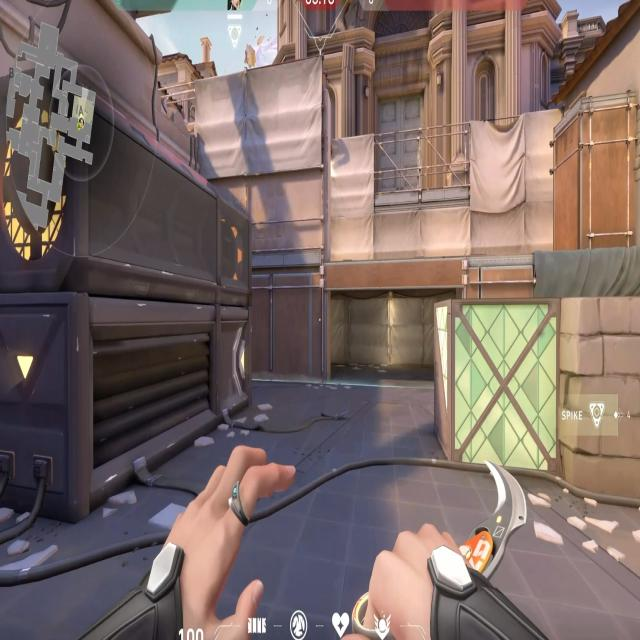A_Heaven_Box: (552, 127, 638, 242)
A_Heaven_Wall: (195, 70, 326, 261)
A_Hell: (305, 274, 482, 382)
A_Site_Box: (428, 301, 563, 478)
